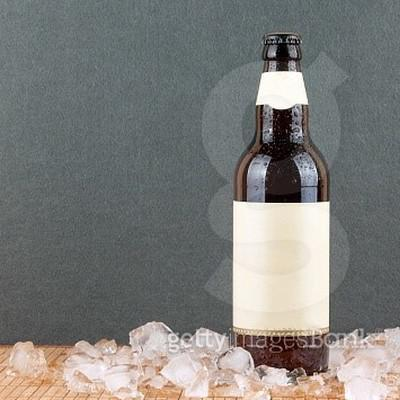beer: (224, 32, 341, 373)
